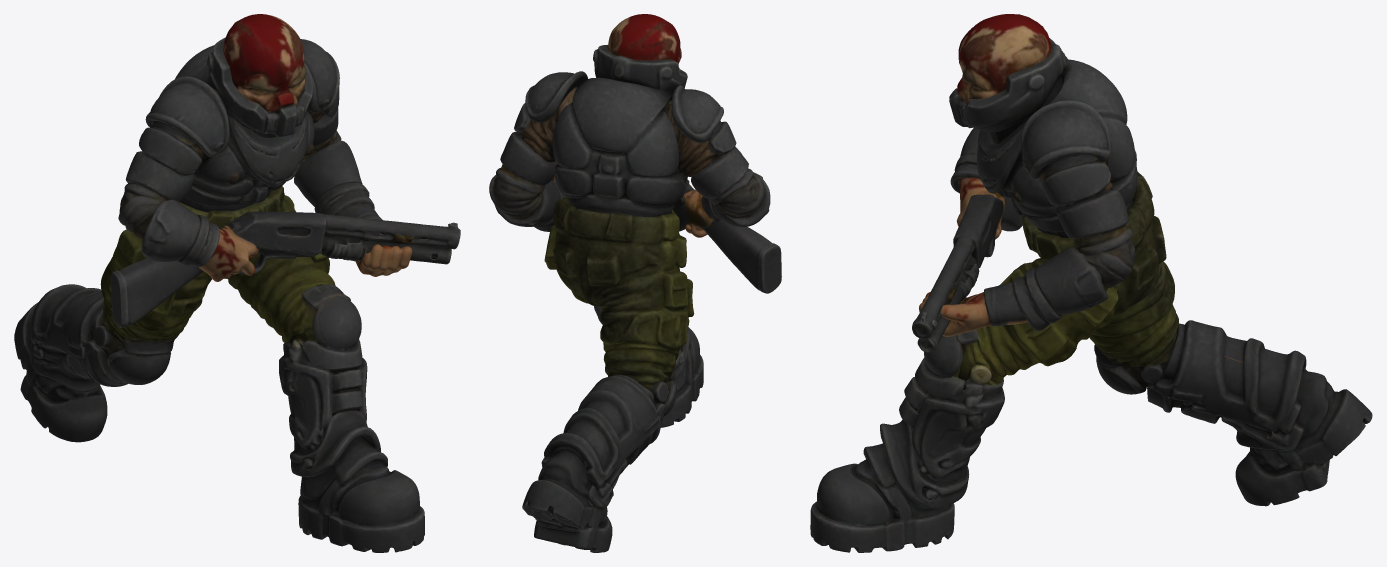
File: SPOSB1_2026-08-14T000651.916.glb
3 views of the same model, side by side, from view 1: azimuth 30°, elevation 25°; view 2: azimuth 150°, elevation 25°; view 3: azimuth 270°, elevation 25° (orthographic). The views are drawn at different scales.
Visible parts, largest first — view 1: world; view 2: world; view 3: world.
Boxes of the visible parts, x1,y1,x2,y2 form: world: (14, 14, 460, 552); world: (489, 14, 781, 552); world: (810, 14, 1372, 552).
Size of the model in its own units: 0.6565 by 1 by 0.9991.
1 material, 1 textured.
